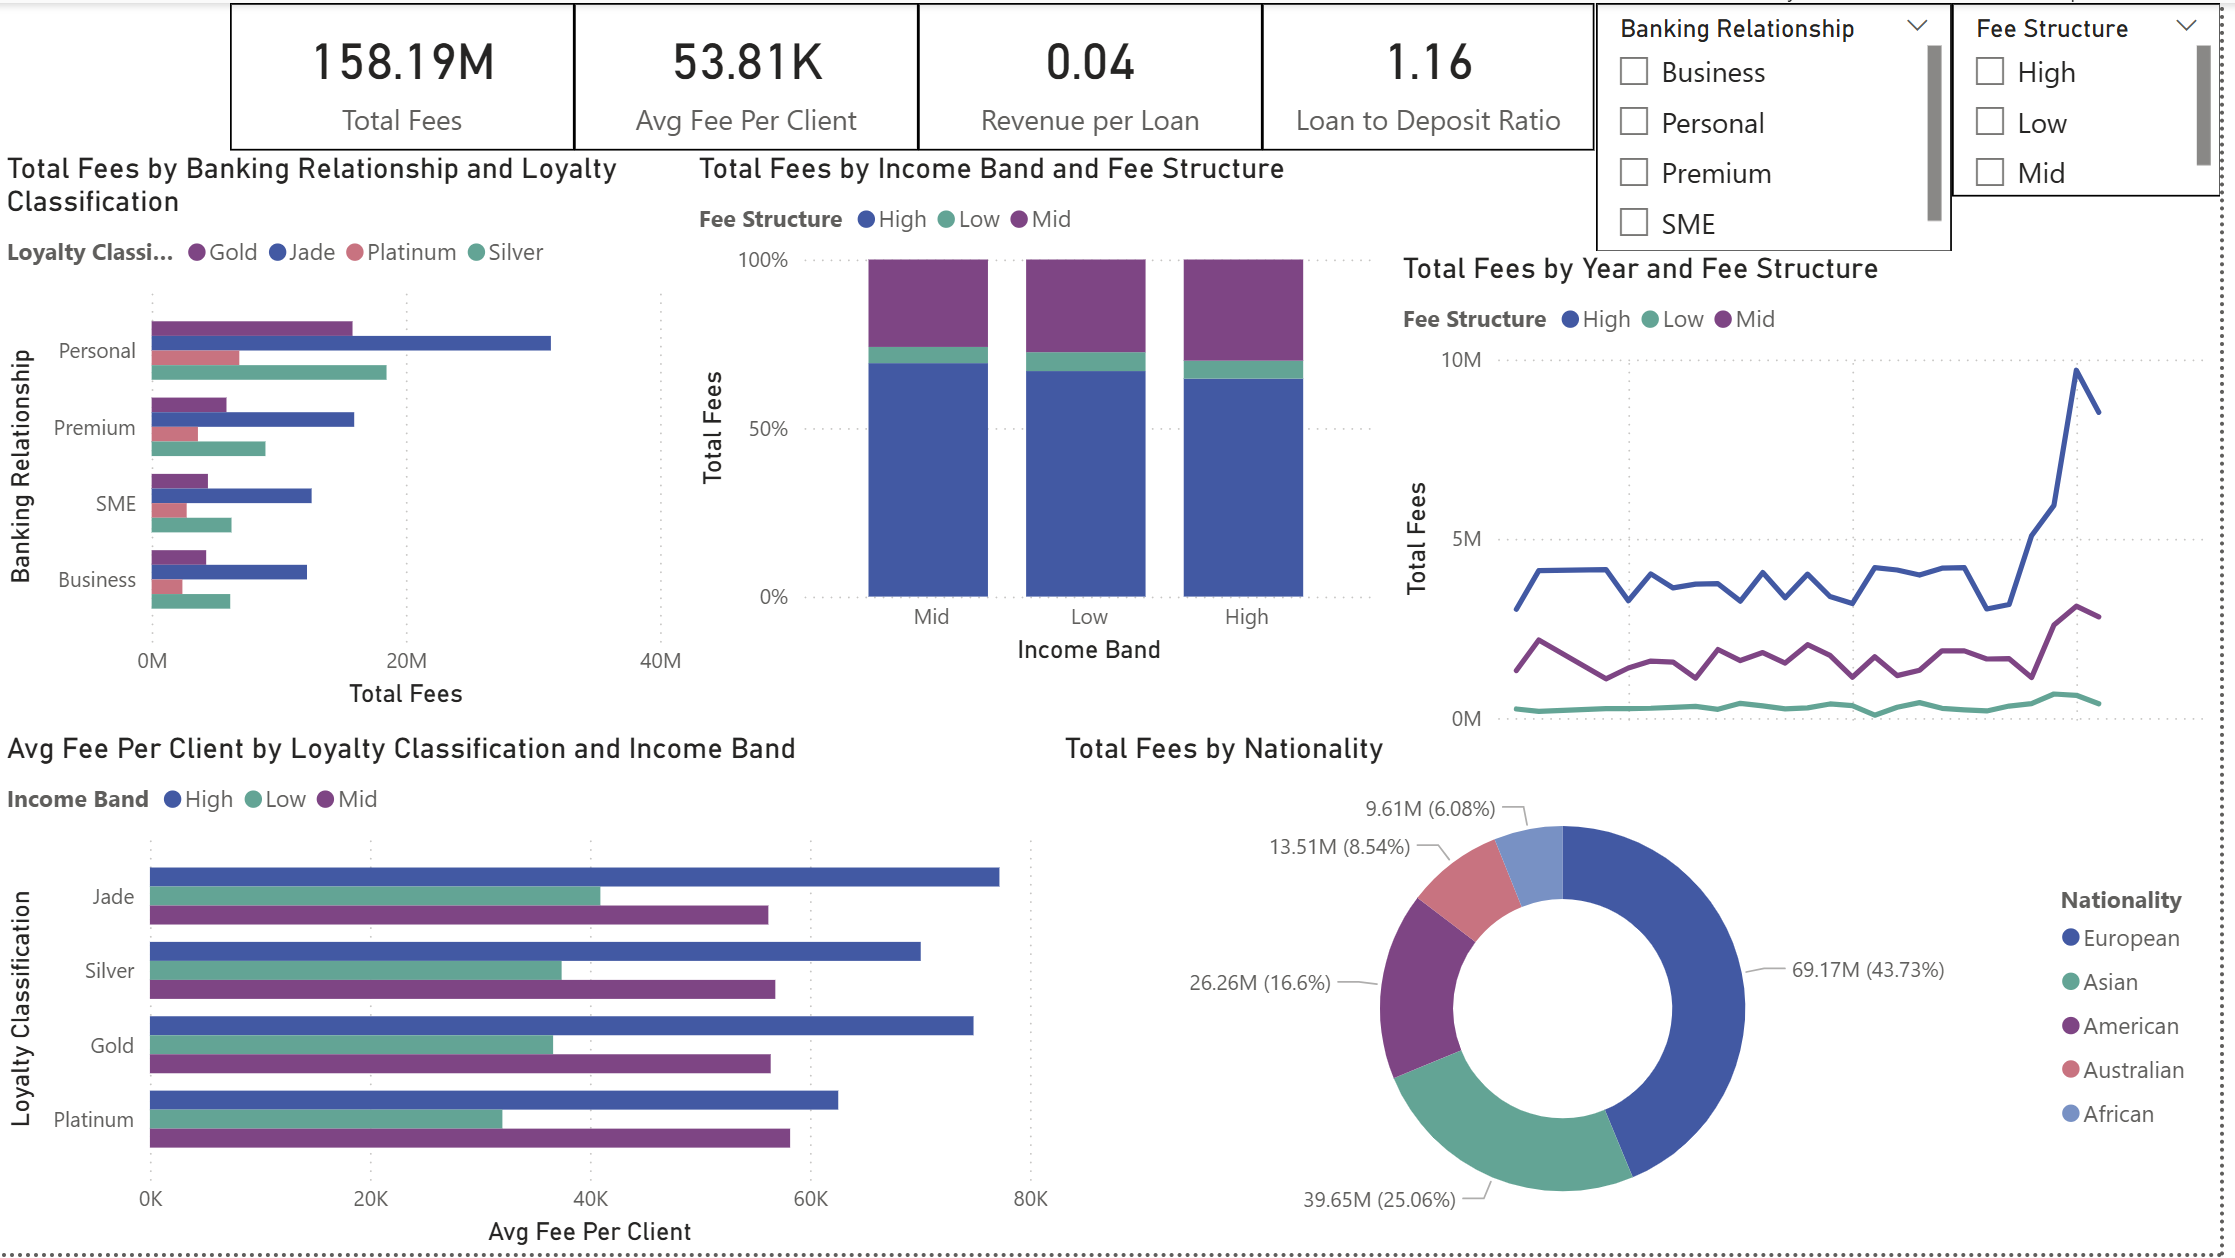

The dashboard page shown, as its layout file describes it:
{"tool":"powerbi","page":{"name":"Revenue & Profitability","canvas":[1280,720],"ordinal":7},"visuals":[{"type":"slicer","fields":{"Values":["Banking.Fee Structure"]},"box":[1125,0,155,111.7],"z":0},{"type":"slicer","fields":{"Values":["Banking.Banking Relationship"]},"box":[920,0,205,143.3],"z":1000},{"type":"card","fields":{"Values":["Banking.Total Fees"]},"box":[133.3,0,198.3,85],"z":2000},{"type":"card","fields":{"Values":["Banking.Avg Fee Per Client"]},"box":[331.7,0,198.3,85],"z":3000},{"type":"card","fields":{"Values":["Banking.Revenue per Loan"]},"box":[530,0,198.3,85],"z":4000},{"type":"card","fields":{"Values":["Banking.Loan to Deposit Ratio"]},"box":[728.3,0,191.7,85],"z":5000},{"type":"clusteredBarChart","fields":{"Category":["Banking.Banking Relationship"],"Y":["Banking.Total Fees"],"Series":["Banking.Loyalty Classification"]},"box":[0,85,398.3,325],"z":6000},{"type":"hundredPercentStackedColumnChart","fields":{"Category":["Banking.Income Band"],"Y":["Banking.Total Fees"],"Series":["Banking.Fee Structure"]},"box":[398.3,85,398.3,300],"z":7000},{"type":"lineChart","fields":{"Category":["Banking.Year"],"Y":["Banking.Total Fees"],"Series":["Banking.Fee Structure"]},"box":[804.5,142.8,475.5,312.4],"z":8000},{"type":"clusteredBarChart","fields":{"Category":["Banking.Loyalty Classification"],"Y":["Banking.Avg Fee Per Client"],"Series":["Banking.Income Band"]},"box":[0,419.4,609.4,300.9],"z":9000},{"type":"donutChart","fields":{"Category":["Banking.Nationality"],"Y":["Banking.Total Fees"]},"box":[609.4,419.4,670.6,300.9],"z":10000}]}

Visuals, with their boxes in screenshot pixels (x1, y1, x2, y2), scaled from the page's 1280x720 canvas onto the 2235x1258 screenshot:
slicer - Banking.Fee Structure: 1964 0 2234 195
slicer - Banking.Banking Relationship: 1606 0 1964 250
card - Banking.Total Fees: 233 0 579 149
card - Banking.Avg Fee Per Client: 579 0 925 149
card - Banking.Revenue per Loan: 925 0 1272 149
card - Banking.Loan to Deposit Ratio: 1272 0 1606 149
clusteredBarChart - Banking.Banking Relationship x Banking.Total Fees: 0 149 695 716
hundredPercentStackedColumnChart - Banking.Income Band x Banking.Total Fees: 695 149 1391 673
lineChart - Banking.Year x Banking.Total Fees: 1405 250 2234 795
clusteredBarChart - Banking.Loyalty Classification x Banking.Avg Fee Per Client: 0 733 1064 1257
donutChart - Banking.Nationality x Banking.Total Fees: 1064 733 2234 1257
